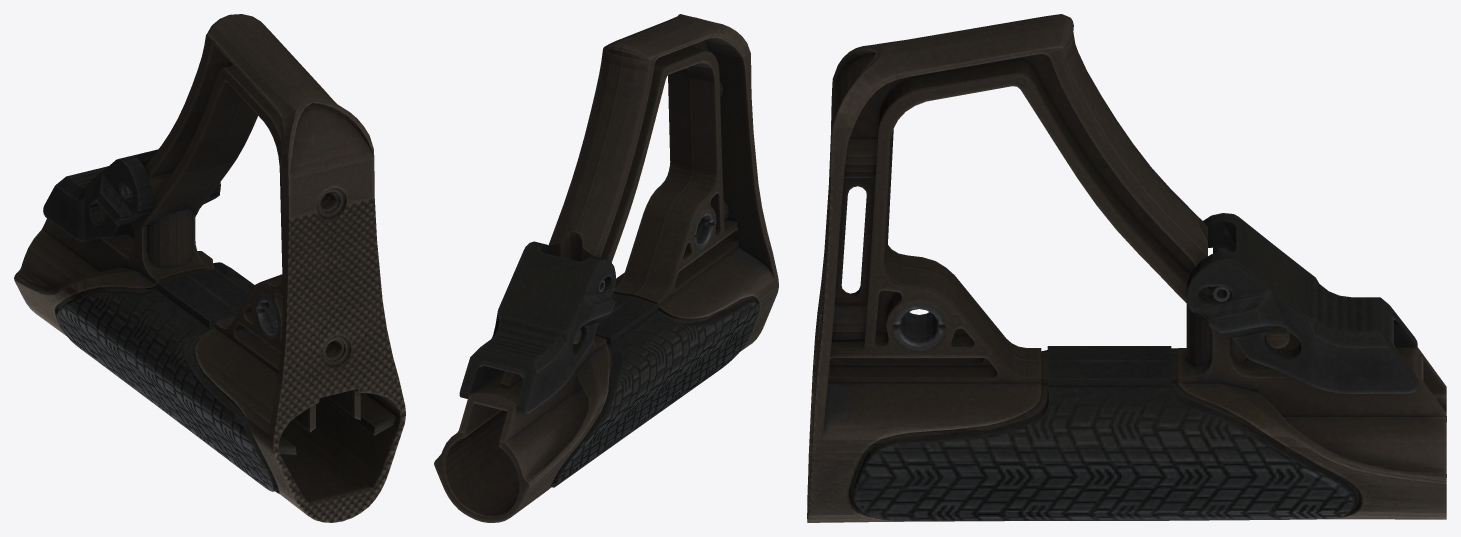
3 views of the same model, side by side, from view 1: azimuth 30°, elevation 25°; view 2: azimuth 150°, elevation 25°; view 3: azimuth 270°, elevation 25° (orthographic). The views are drawn at different scales.
Visible parts, largest first — view 1: TW_6516e971a3d4c6497930b450_PZ_Import; view 2: TW_6516e971a3d4c6497930b450_PZ_Import; view 3: TW_6516e971a3d4c6497930b450_PZ_Import.
Boxes of the visible parts, x1,y1,x2,y2 form: TW_6516e971a3d4c6497930b450_PZ_Import: [14, 14, 405, 522]; TW_6516e971a3d4c6497930b450_PZ_Import: [434, 14, 778, 522]; TW_6516e971a3d4c6497930b450_PZ_Import: [807, 14, 1446, 522].
Size of the model in its own units: 0.0279 by 0.094 by 0.0806.
1 material, 1 textured.
